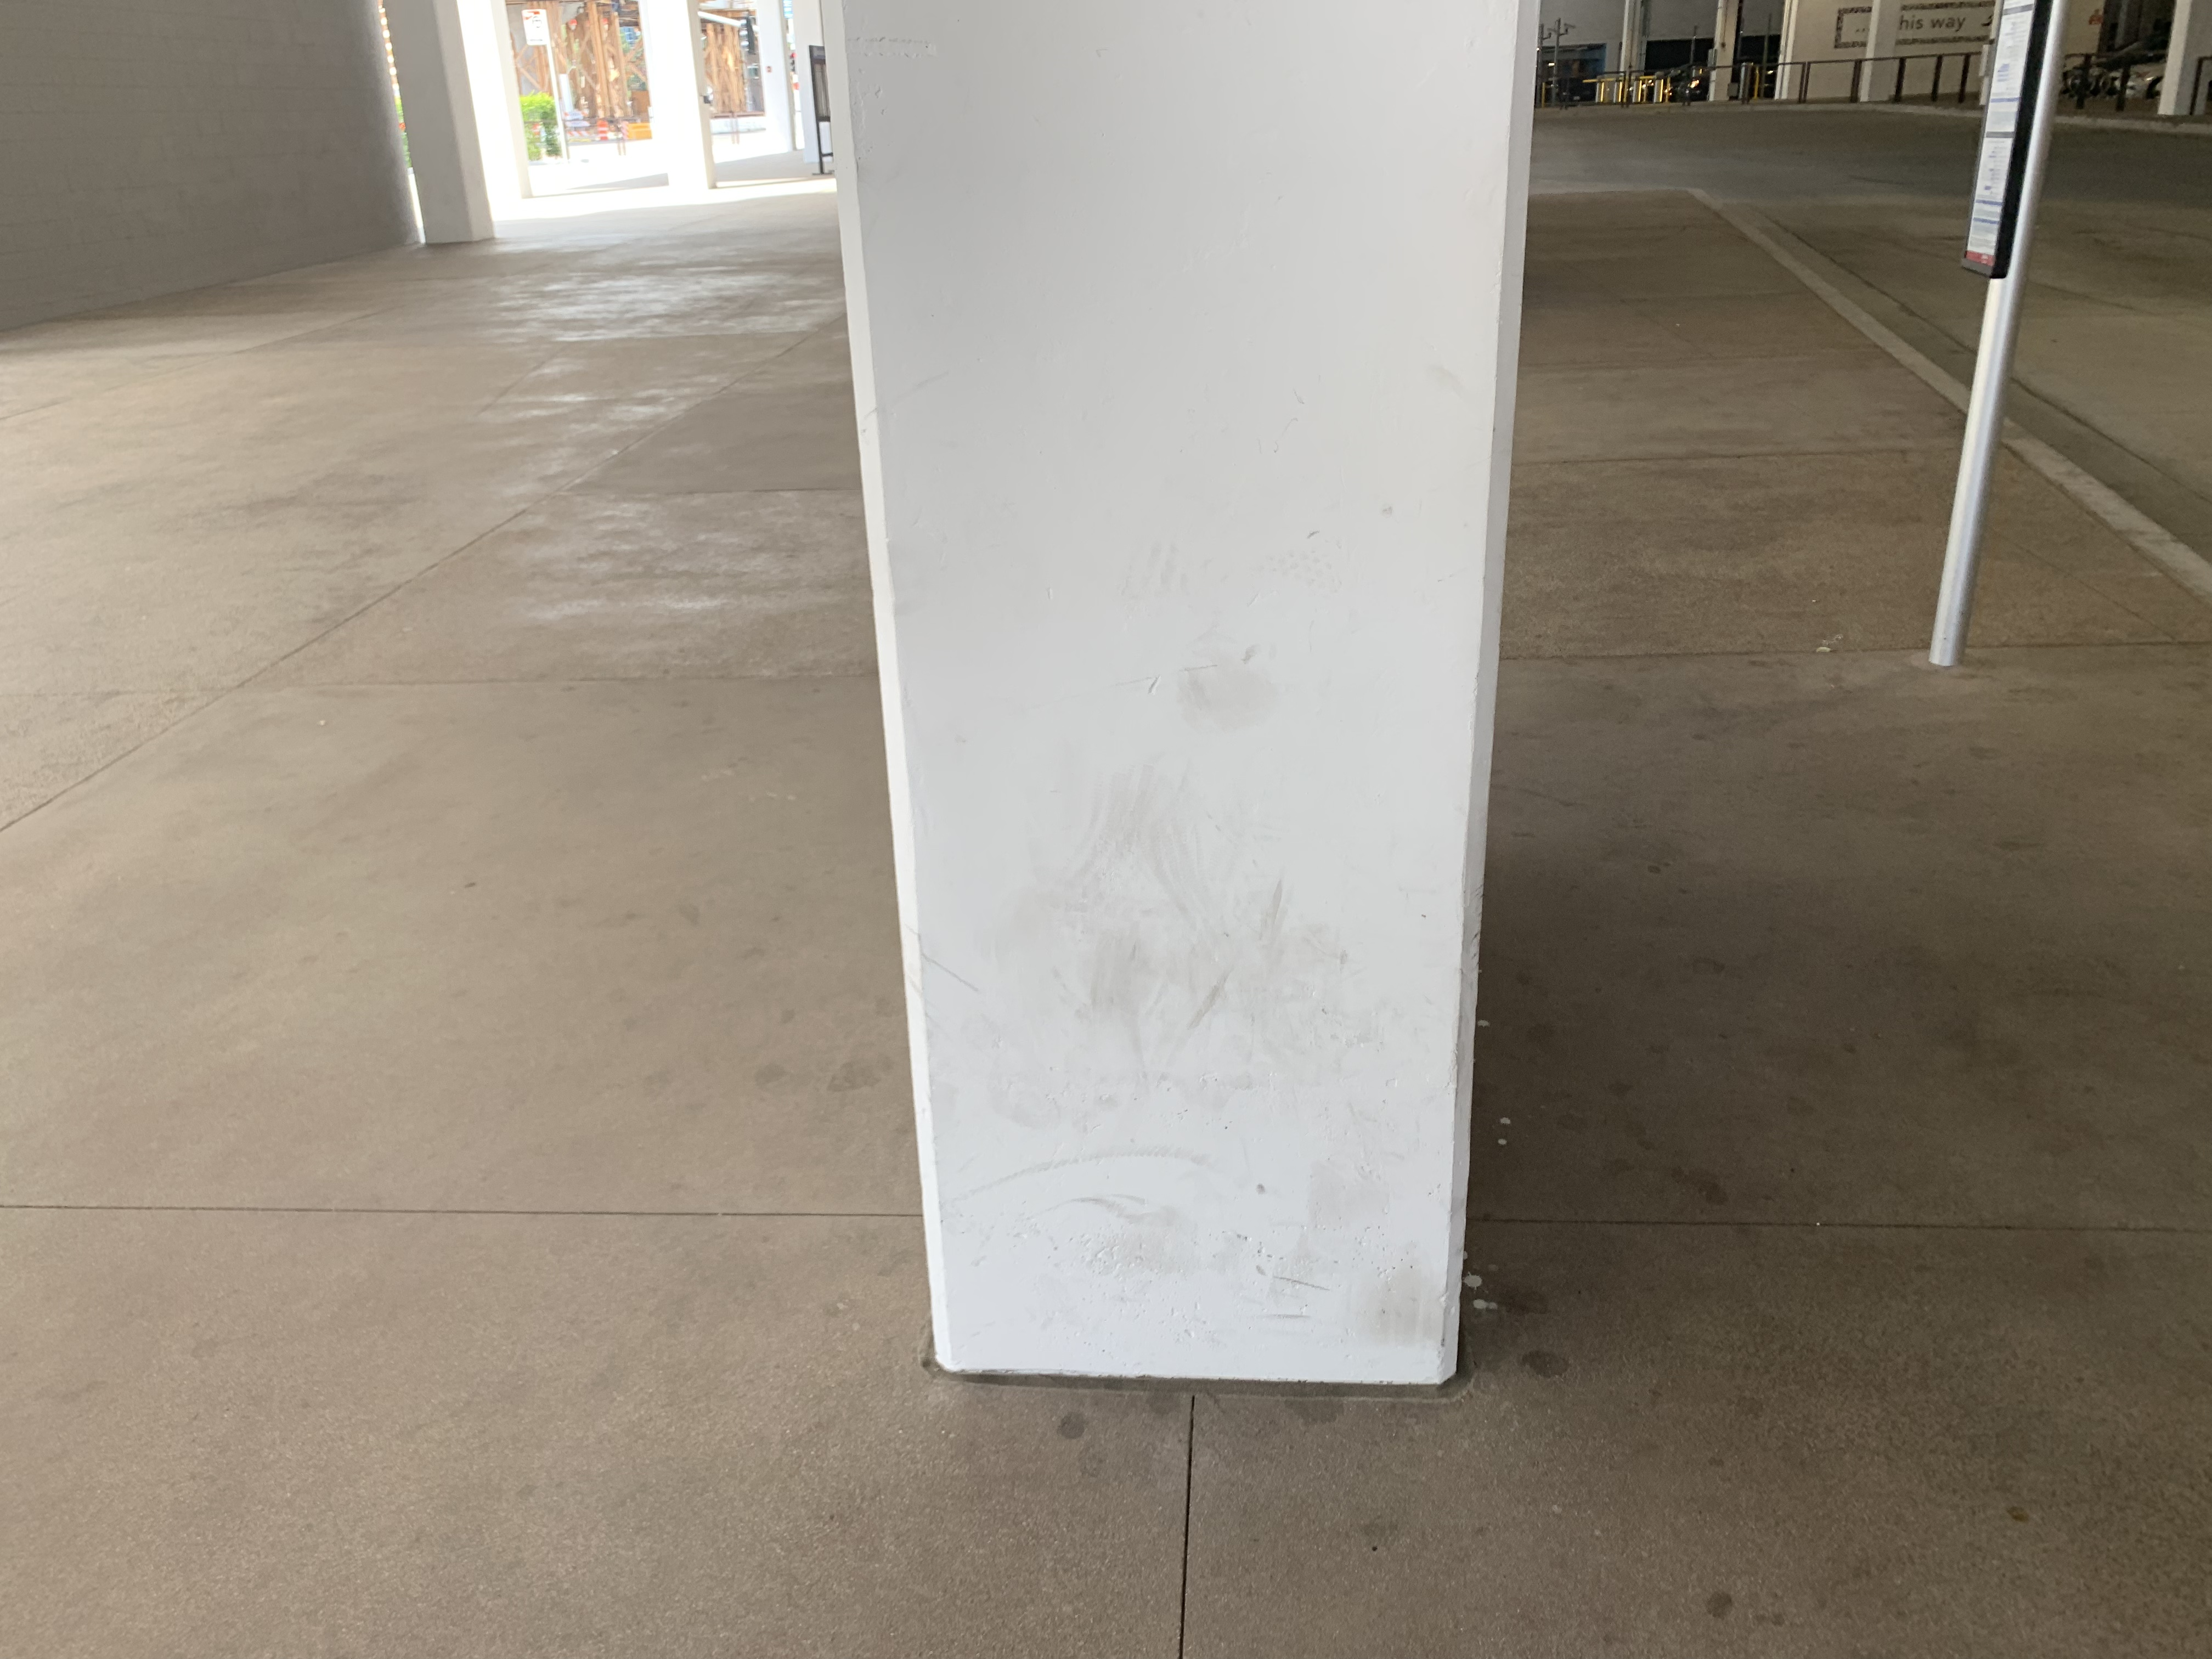Obstacle: (824, 5, 1508, 1406), (1935, 14, 2067, 666)
